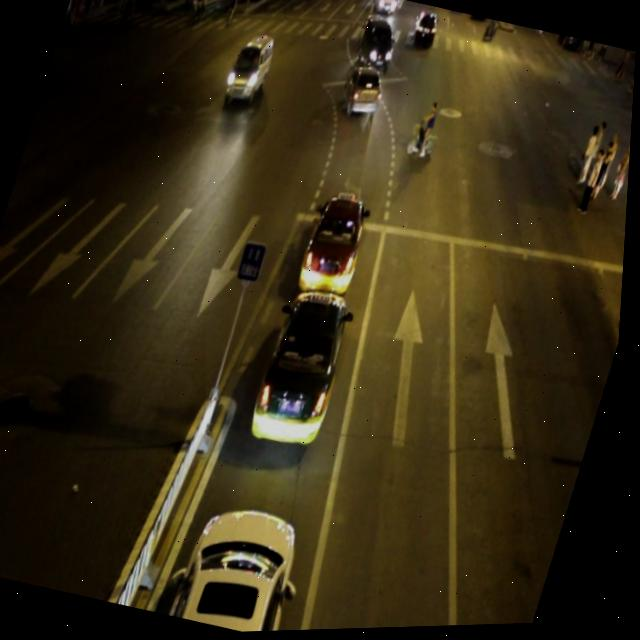car: (169, 487, 326, 635), (250, 283, 364, 454), (294, 191, 378, 308), (337, 66, 389, 126), (351, 22, 402, 81)
truck: (223, 31, 278, 106)
